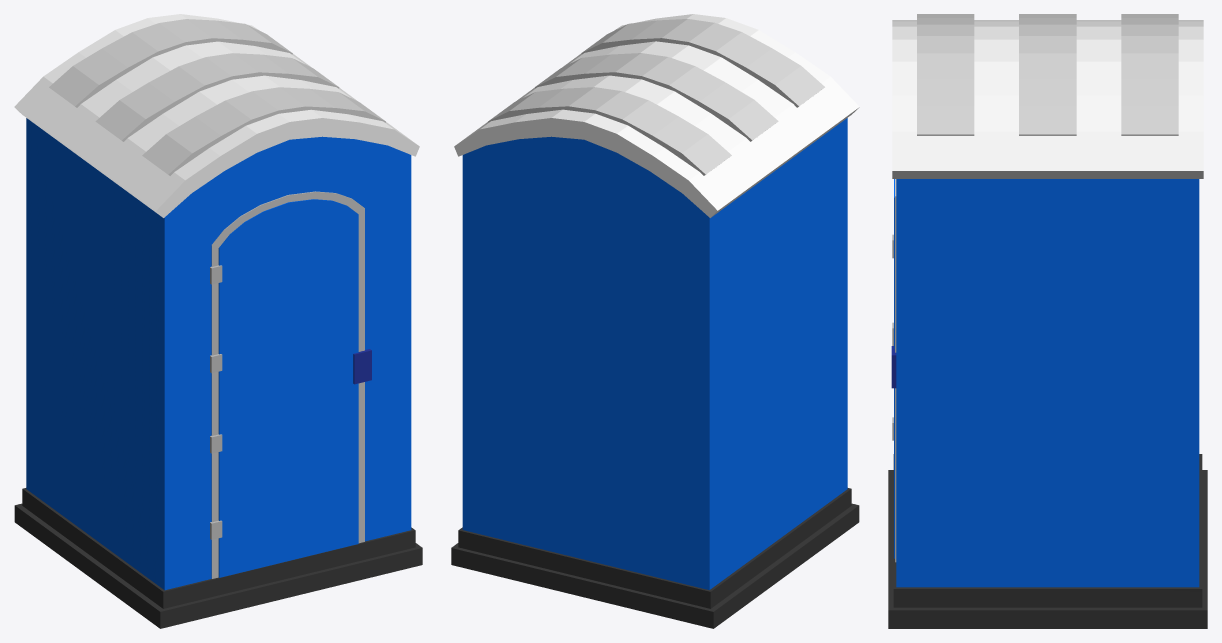
The model's file is Toilet.fbx.
The picture shows the model from 3 angles, left to right: view 1: azimuth 30°, elevation 25°; view 2: azimuth 150°, elevation 25°; view 3: azimuth 270°, elevation 25°; orthographic projection. The views are drawn at different scales.
Visible parts, largest first — view 1: body, Cube.002, Cube, bottom, Cube.010, Cube.009, Cube.008, Cube.001, Cube.007; view 2: body, Cube, bottom, Cube.008, Cube.010, Cube.009; view 3: body, Cube, bottom, Cube.008, Cube.009, Cube.010, Cube.001.
Part boxes in pixels (<box>): body: <box>26,118,411,590</box>; Cube.002: <box>218,199,358,577</box>; Cube: <box>14,14,419,217</box>; bottom: <box>14,488,422,628</box>; Cube.010: <box>49,19,292,107</box>; Cube.009: <box>142,87,385,175</box>; Cube.008: <box>95,53,339,141</box>; Cube.001: <box>211,191,364,578</box>; Cube.007: <box>353,349,371,384</box>; body: <box>462,118,847,589</box>; Cube: <box>454,14,859,217</box>; bottom: <box>451,488,859,628</box>; Cube.008: <box>535,53,778,141</box>; Cube.010: <box>488,87,731,175</box>; Cube.009: <box>581,19,824,107</box>; body: <box>896,179,1199,587</box>; Cube: <box>892,20,1203,178</box>; bottom: <box>888,454,1207,628</box>; Cube.008: <box>1019,14,1076,135</box>; Cube.009: <box>917,14,974,135</box>; Cube.010: <box>1121,14,1178,135</box>; Cube.001: <box>895,179,896,562</box>.
Size of the model in its own units: 164 by 282 by 156.
